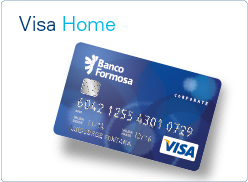tarjeta: (53, 42, 222, 171)
